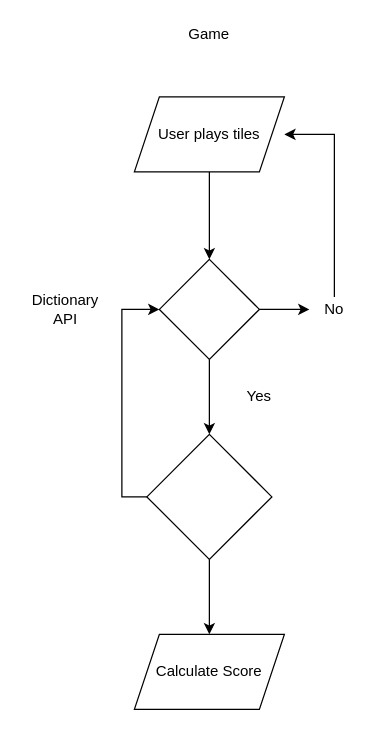
Some shapes in this 380 by 731 pixel diagram are drawn without their labels. The centre of each missing label's shape, as x and y in pixels:
"Check Surrounding Words" goes at [209,496].
"Is word?" goes at [208,308].
